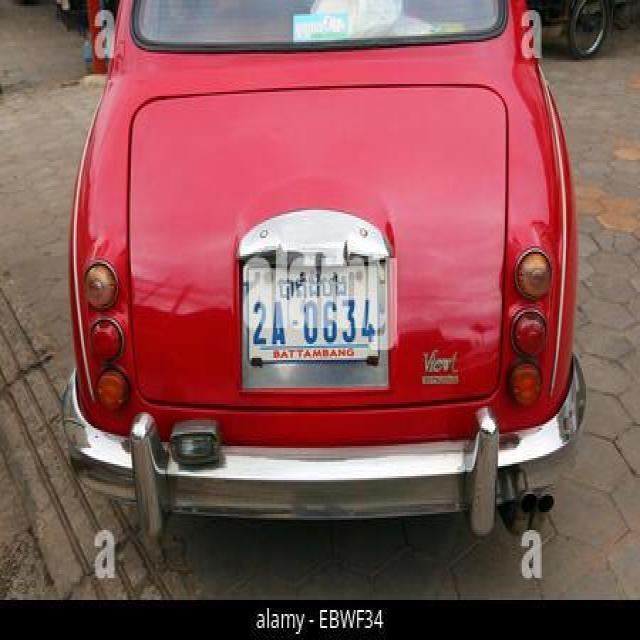Battambang: (277, 270, 348, 302)
